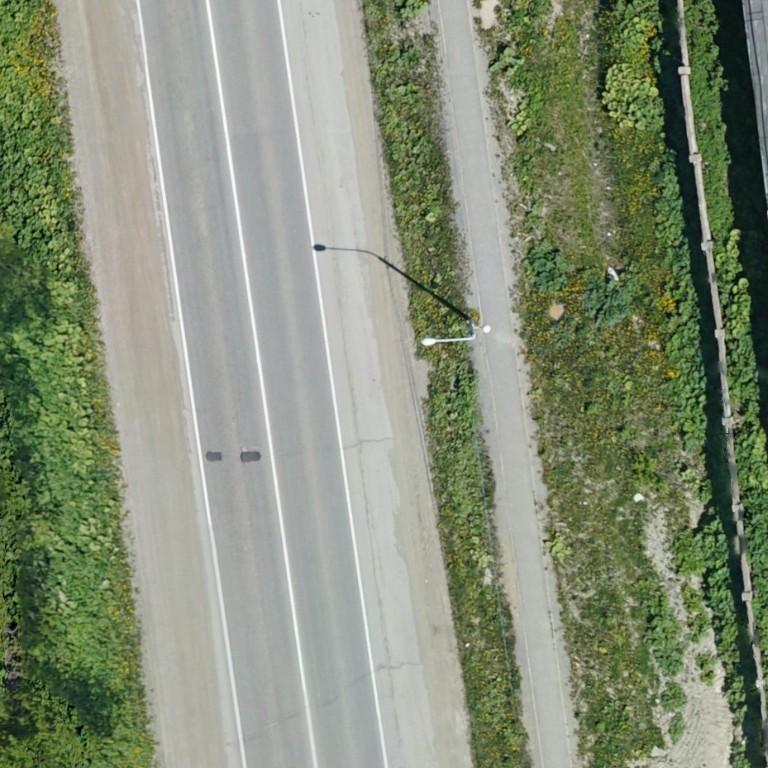hogweed: (0, 0, 75, 279), (651, 152, 710, 443), (672, 514, 751, 705), (740, 489, 767, 649), (529, 240, 574, 290), (649, 598, 678, 674), (583, 281, 629, 322)
